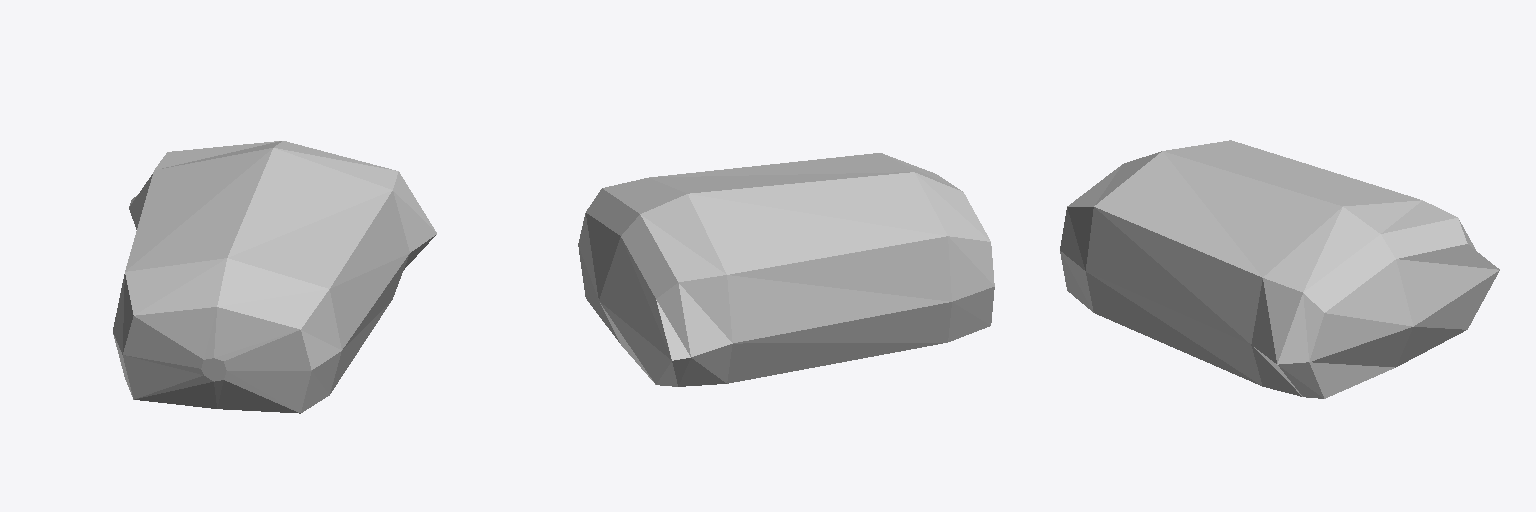
The model's file is laundryBag2.obj.
3 renders of one model, left to right at view 1: azimuth 30°, elevation 25°; view 2: azimuth 150°, elevation 25°; view 3: azimuth 270°, elevation 25°, orthographic.
Parts seen in each view (by area): view 1: Cube.003_Cube.004; view 2: Cube.003_Cube.004; view 3: Cube.003_Cube.004.
Part boxes in pixels (x1,y1,x2,y2): Cube.003_Cube.004: (113,141,436,413); Cube.003_Cube.004: (578,153,994,386); Cube.003_Cube.004: (1060,140,1499,398).
Bounding box in the file's own units: 3.53 × 1.37 × 3.74.